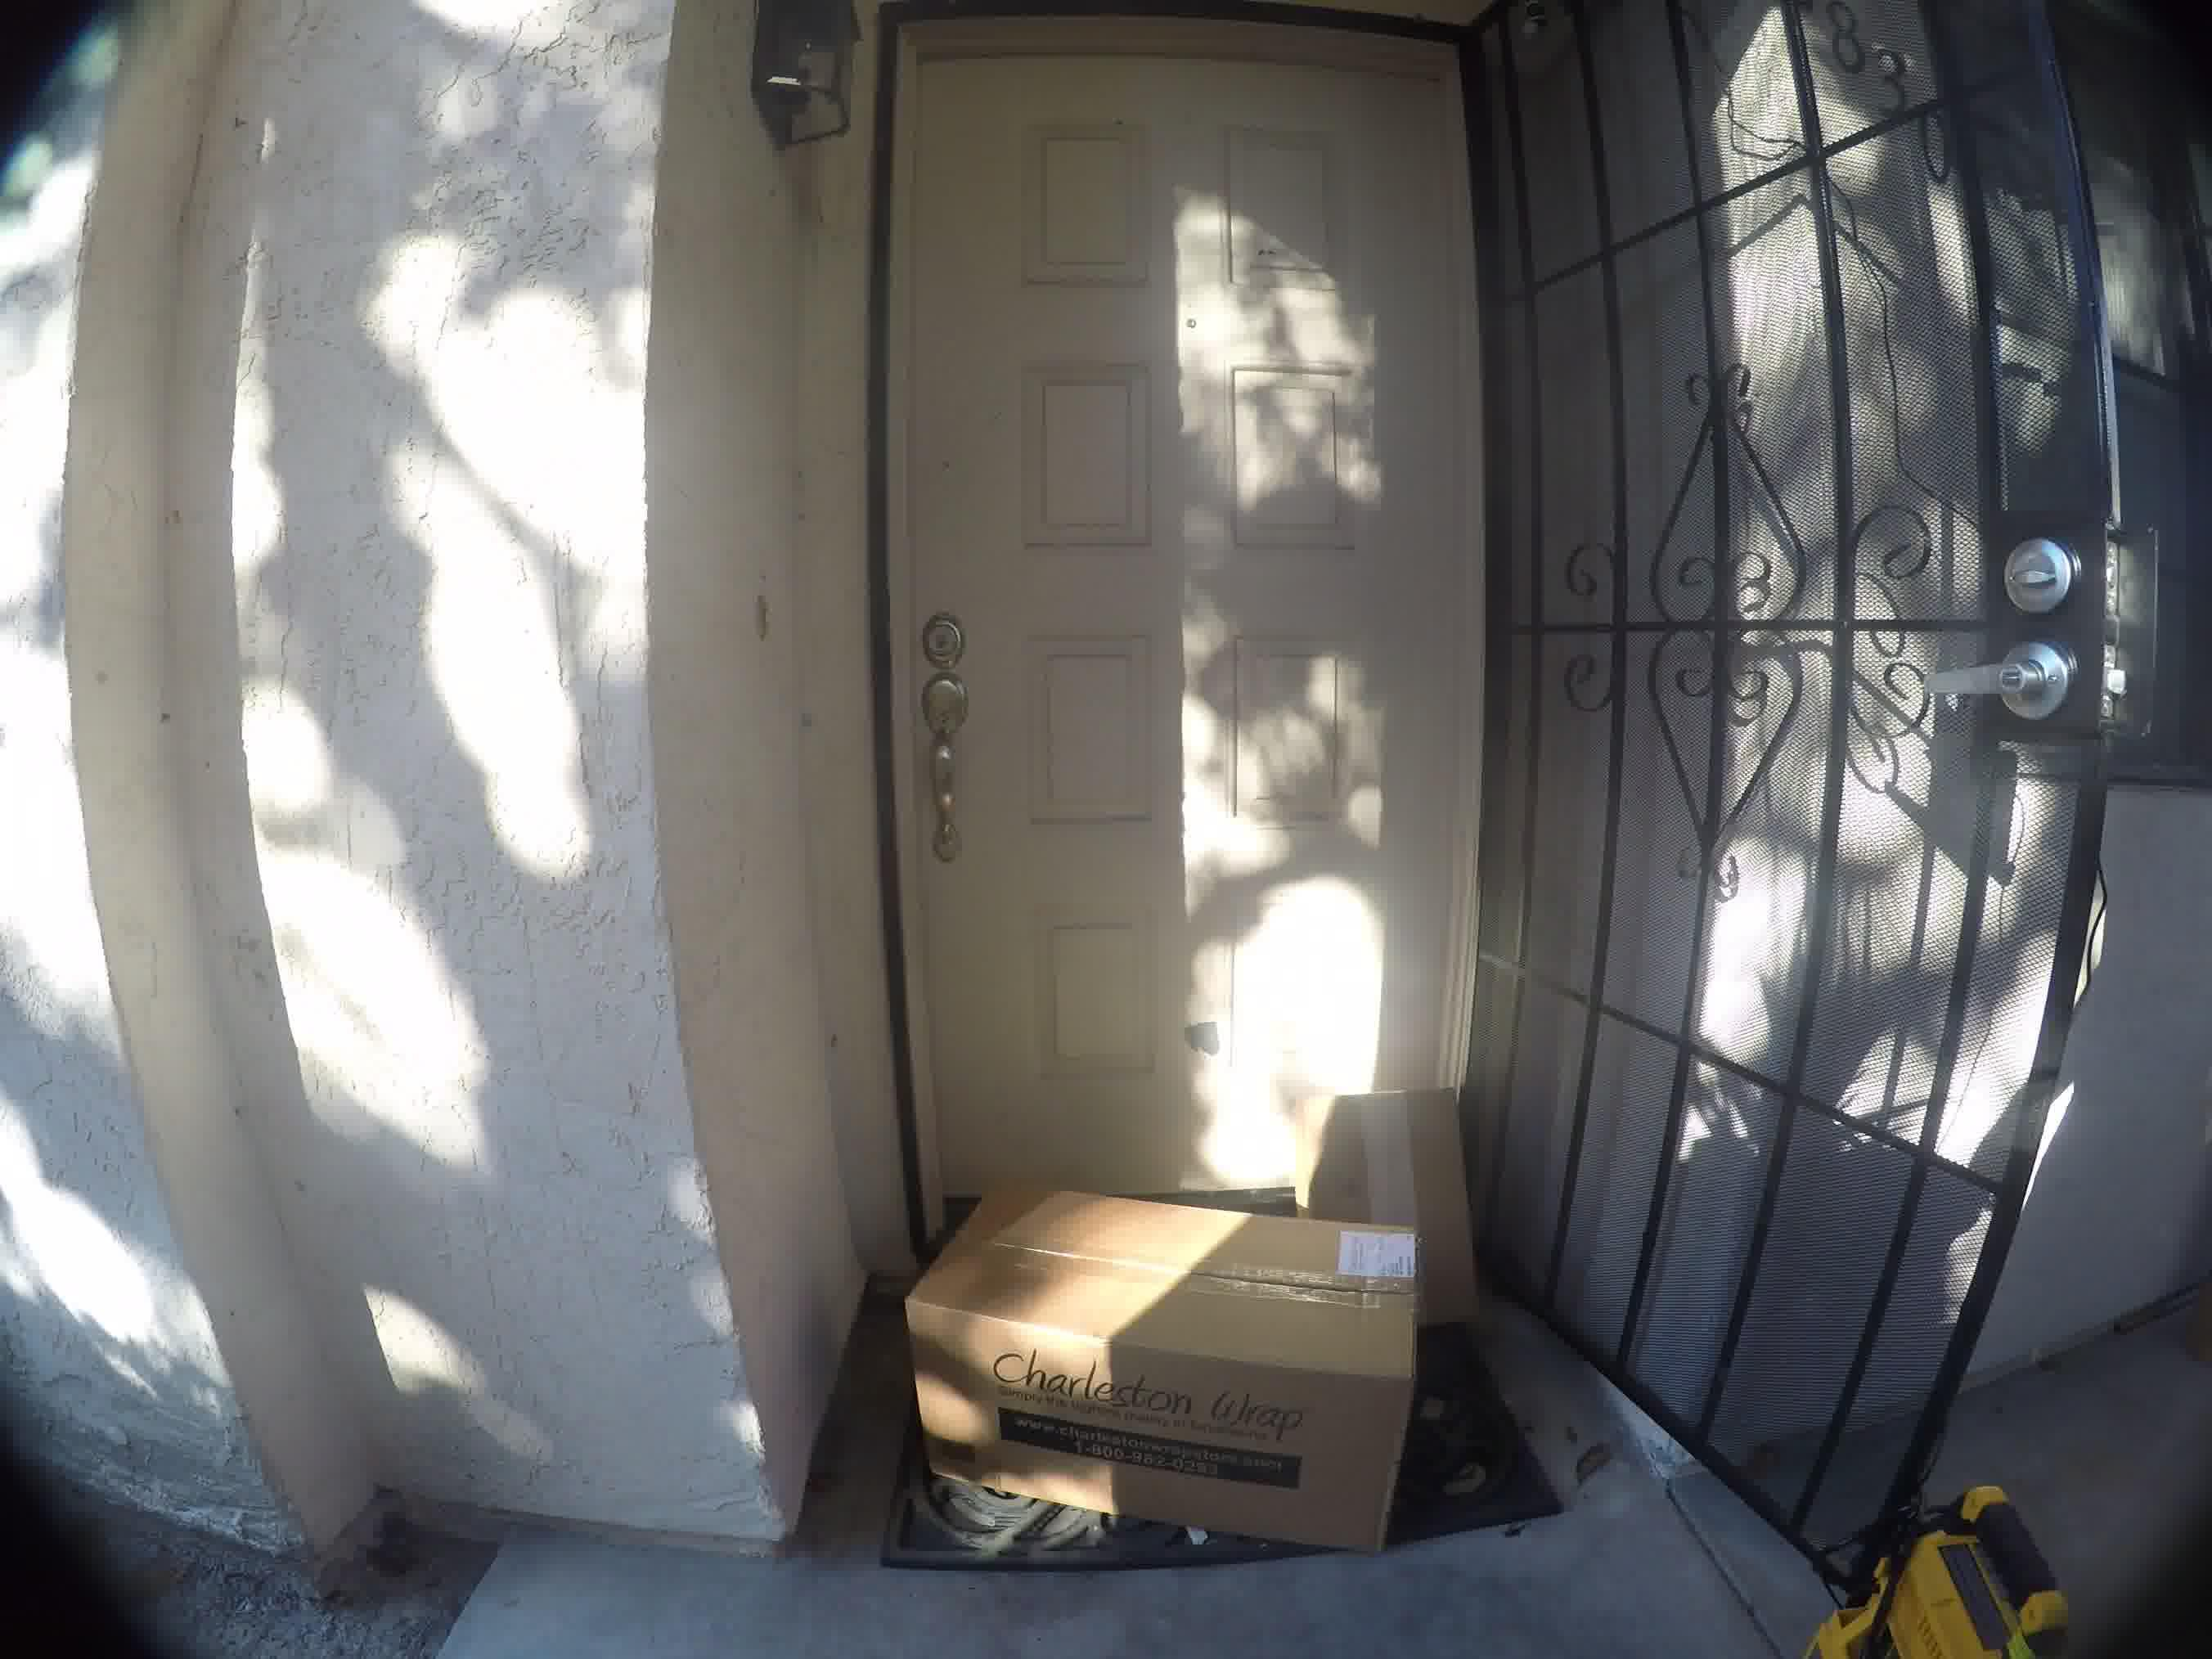box: (918, 1143, 1472, 1575)
